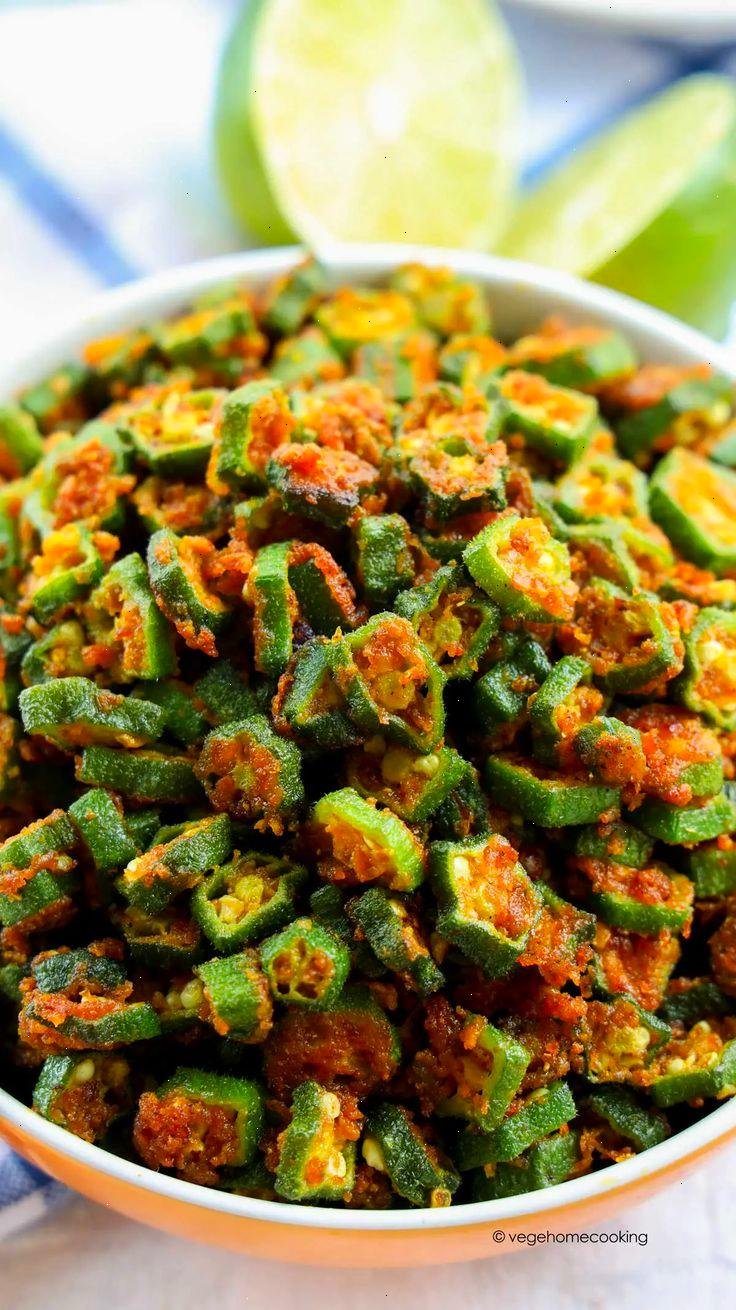bhindi: (0, 367, 736, 1138)
